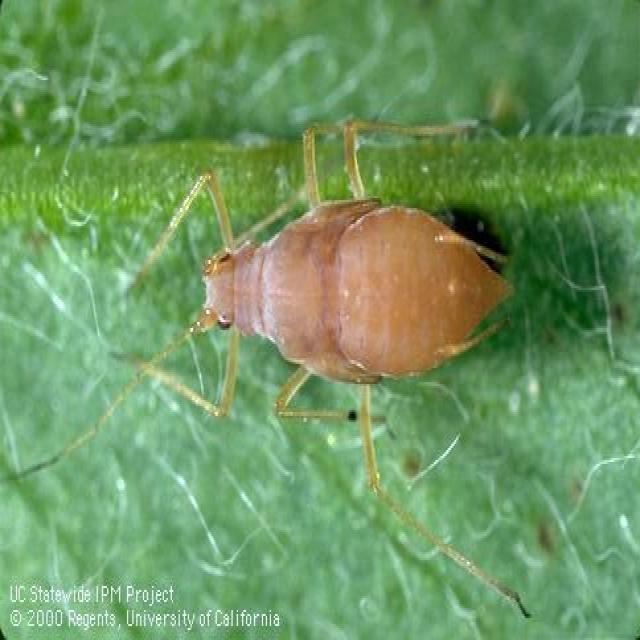Aphids: (130, 97, 532, 489)
